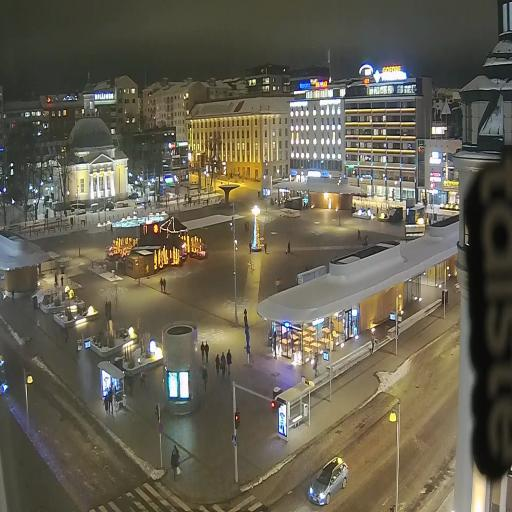Bus: (0, 355, 9, 395)
